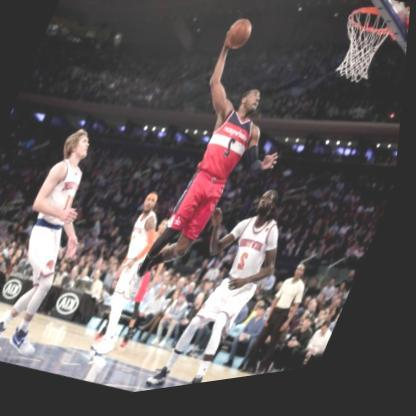basketball: (222, 21, 258, 62)
rim: (325, 8, 402, 100)
